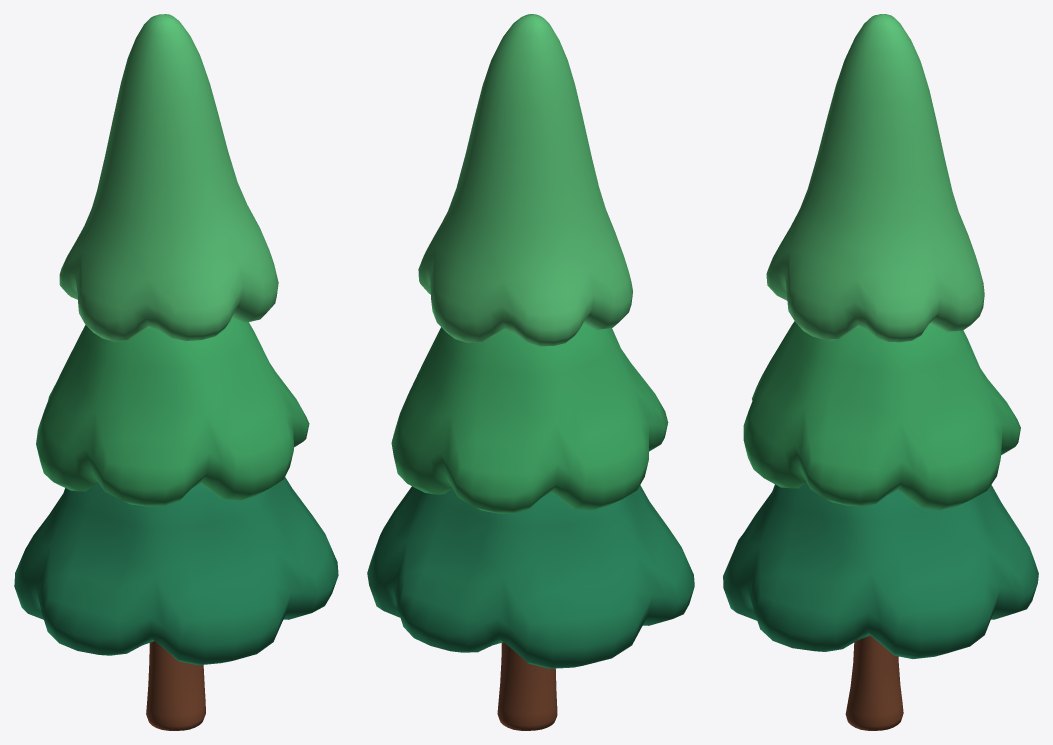
Rendered from Conifer_01.fbx.
3 views of the same model, side by side, from view 1: azimuth 30°, elevation 25°; view 2: azimuth 150°, elevation 25°; view 3: azimuth 270°, elevation 25° (orthographic).
Parts seen in each view (by area): view 1: Conifer_01_LOD0; view 2: Conifer_01_LOD0; view 3: Conifer_01_LOD0.
Boxes of the visible parts, bbox=[...] form: Conifer_01_LOD0: bbox=[14, 14, 338, 730]; Conifer_01_LOD0: bbox=[367, 14, 694, 730]; Conifer_01_LOD0: bbox=[723, 14, 1038, 730].
Size of what is drawn, in the model's own units: 548 by 1341 by 546.
